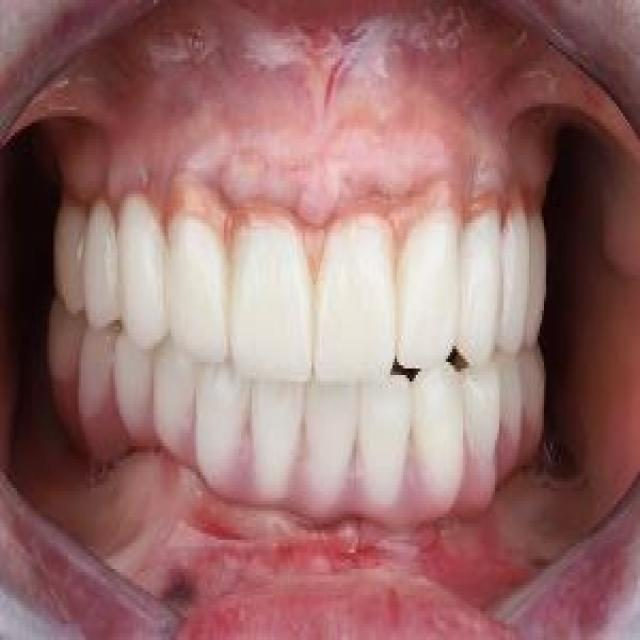1st Molar: (47, 297, 85, 388), (518, 346, 547, 425)
1st Premolar: (461, 368, 501, 511), (81, 200, 118, 330), (113, 336, 156, 445), (502, 210, 530, 357)
2nd Premolar: (53, 199, 86, 309), (79, 326, 117, 417), (527, 220, 548, 342), (495, 356, 523, 445)
Canine: (412, 363, 467, 505), (116, 191, 164, 352), (461, 206, 502, 368), (155, 342, 193, 460)
Central Incisor: (230, 203, 316, 385), (314, 203, 398, 385), (302, 376, 358, 503), (250, 381, 305, 501)
Lateral Incisor: (397, 208, 462, 372), (164, 213, 232, 365), (356, 377, 414, 507), (194, 363, 251, 495)
